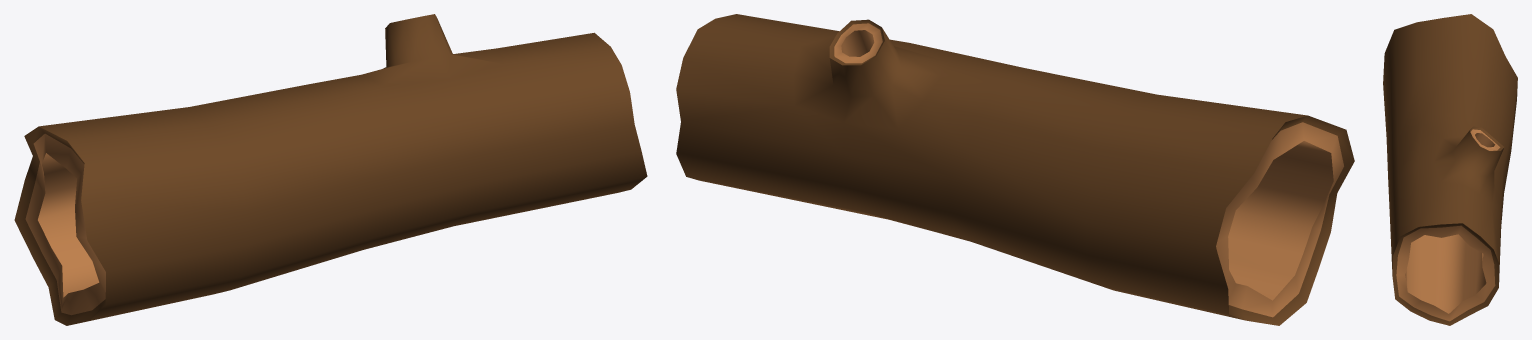
Rendered from Tree_Tunnel_1.fbx.
3 views of the same model, side by side, from view 1: azimuth 30°, elevation 25°; view 2: azimuth 150°, elevation 25°; view 3: azimuth 270°, elevation 25° (orthographic). The views are drawn at different scales.
Visible parts, largest first — view 1: Tree_Tunnel_1; view 2: Tree_Tunnel_1; view 3: Tree_Tunnel_1.
Boxes of the visible parts, bbox=[...] form: Tree_Tunnel_1: bbox=[14, 14, 647, 325]; Tree_Tunnel_1: bbox=[676, 14, 1354, 325]; Tree_Tunnel_1: bbox=[1383, 14, 1517, 325].
Size of the model in its own units: 211 by 73.71 by 63.17.
1 material, 1 textured.
